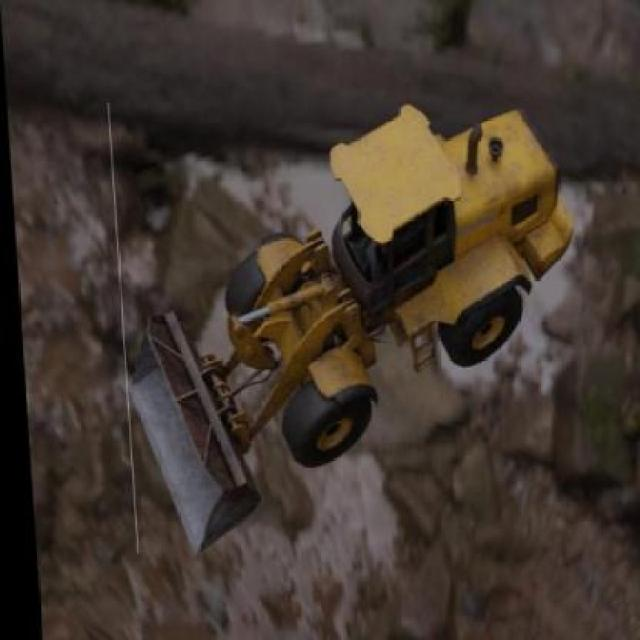buldozerpayloadergrader: (132, 103, 573, 554)
